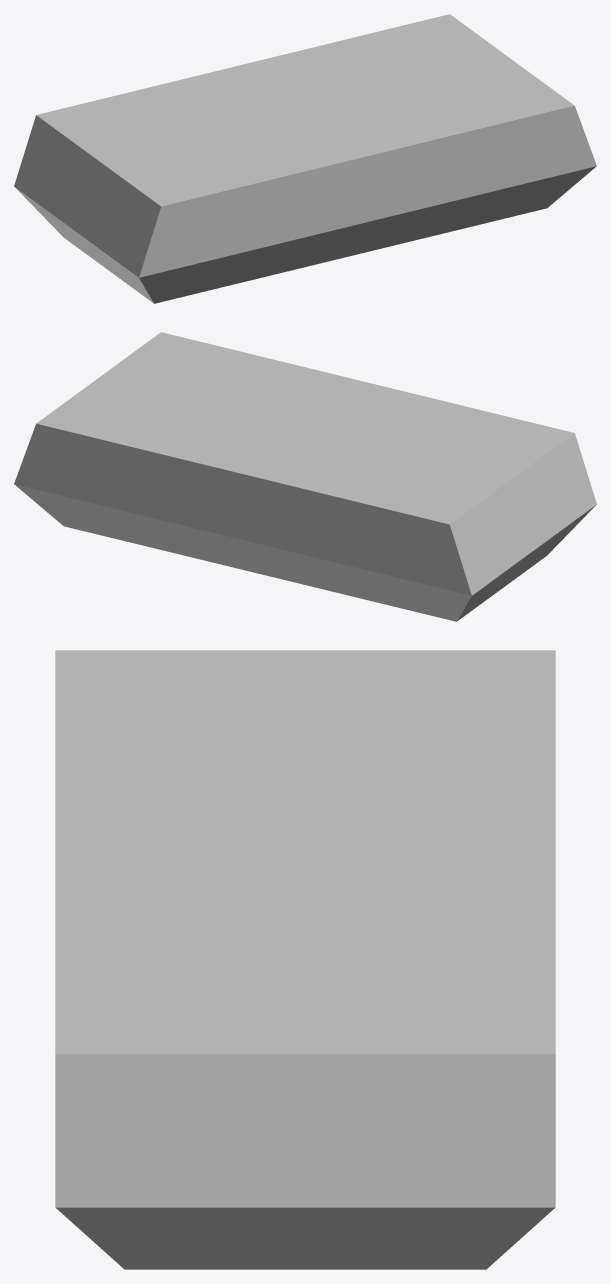
File: Itr_Obj_Grandfatherclock1_Base_06.FBX
The picture shows the model from 3 angles, top to bottom: view 1: azimuth 30°, elevation 25°; view 2: azimuth 150°, elevation 25°; view 3: azimuth 270°, elevation 25°; orthographic projection. The views are drawn at different scales.
Visible parts, largest first — view 1: Itr_Obj_Grandfatherclock1_Base_06; view 2: Itr_Obj_Grandfatherclock1_Base_06; view 3: Itr_Obj_Grandfatherclock1_Base_06.
Boxes of the visible parts, <box> form: Itr_Obj_Grandfatherclock1_Base_06: <box>14,14,596,303</box>; Itr_Obj_Grandfatherclock1_Base_06: <box>14,332,596,621</box>; Itr_Obj_Grandfatherclock1_Base_06: <box>55,650,555,1269</box>.
Size of the model in its own units: 22.36 by 5.26 by 10.57.
